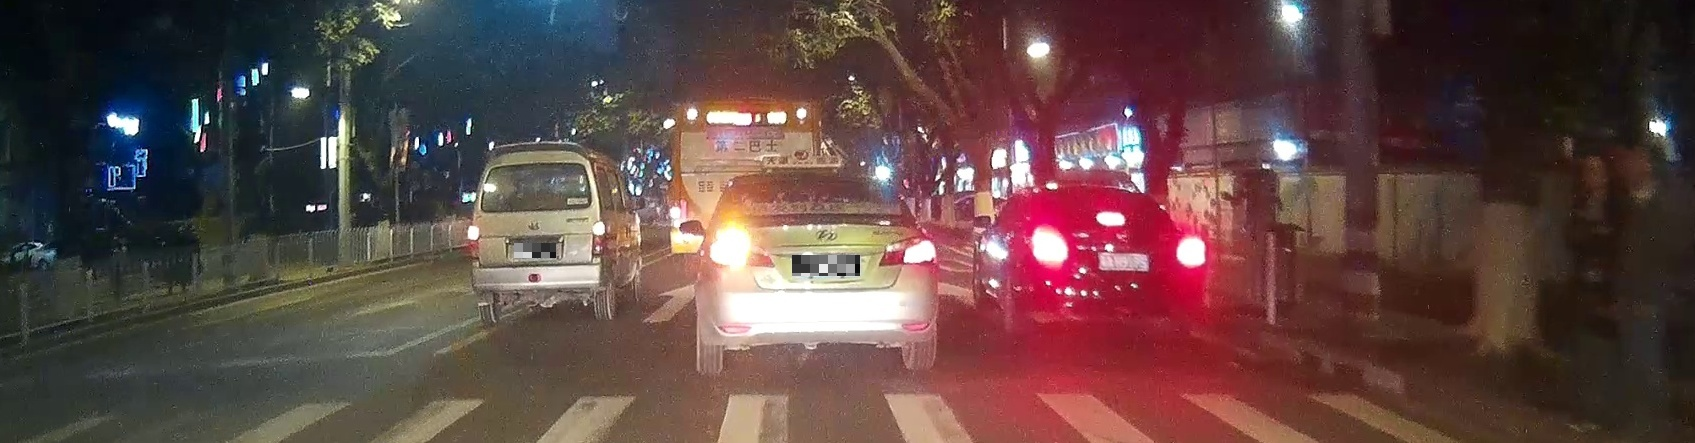L_light: (708, 224, 775, 269), (1029, 225, 1071, 266), (467, 225, 479, 267)
R_light: (878, 224, 936, 267), (1174, 234, 1206, 268), (591, 222, 606, 264)
T_light: (1095, 211, 1127, 226), (796, 180, 823, 188), (523, 163, 545, 169)
night-brake: (1015, 183, 1206, 344)
night-left: (700, 172, 938, 374)
night-no: (467, 140, 609, 326)
plate_1: (513, 243, 556, 258)
plate_2: (792, 255, 860, 276)
